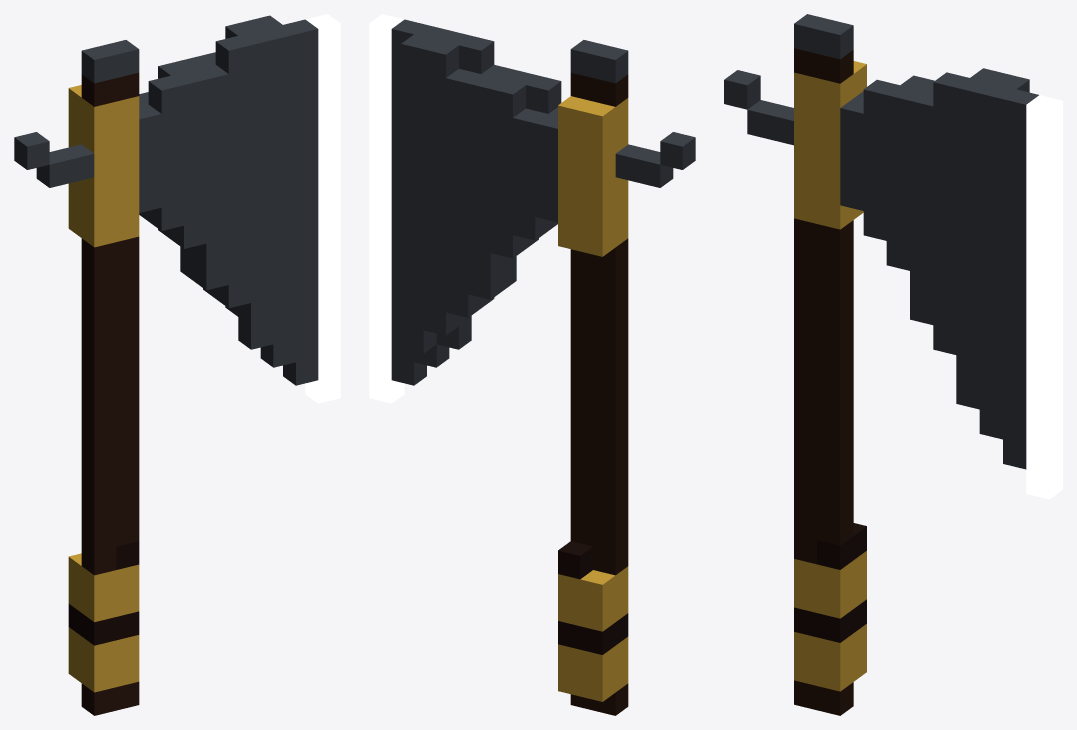
The model's file is axe_epic_lod1.glb.
3 views of the same model, side by side, from view 1: azimuth 30°, elevation 25°; view 2: azimuth 150°, elevation 25°; view 3: azimuth 330°, elevation 25° (orthographic). The views are drawn at different scales.
Visible parts, largest first — view 1: axe_epic_lod1; view 2: axe_epic_lod1; view 3: axe_epic_lod1.
Part boxes in pixels (<box>): axe_epic_lod1: <box>14,14,340,715</box>; axe_epic_lod1: <box>369,14,695,715</box>; axe_epic_lod1: <box>724,14,1062,715</box>.
Bounding box in the file's own units: 0.42 × 0.84 × 0.06.
